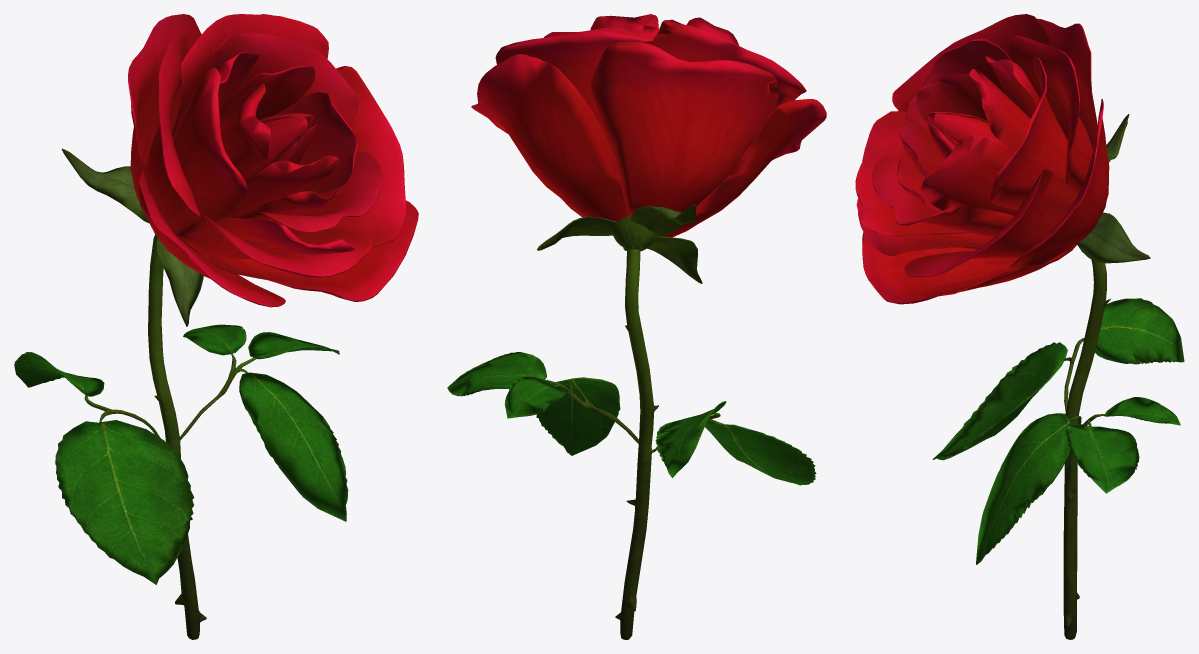
Rendered from realrose.glb.
The picture shows the model from 3 angles, left to right: view 1: azimuth 30°, elevation 25°; view 2: azimuth 150°, elevation 25°; view 3: azimuth 270°, elevation 25°; orthographic projection. The views are drawn at different scales.
Parts seen in each view (by area): view 1: Object_5; view 2: Object_5; view 3: Object_5.
Part boxes in pixels (bbox=[...]): Object_5: bbox=[14, 14, 418, 639]; Object_5: bbox=[447, 14, 826, 639]; Object_5: bbox=[855, 14, 1184, 639].
Size of the model in its own units: 0.2771 by 0.5 by 0.2461.
Materials: 1 (1 with a texture image).
